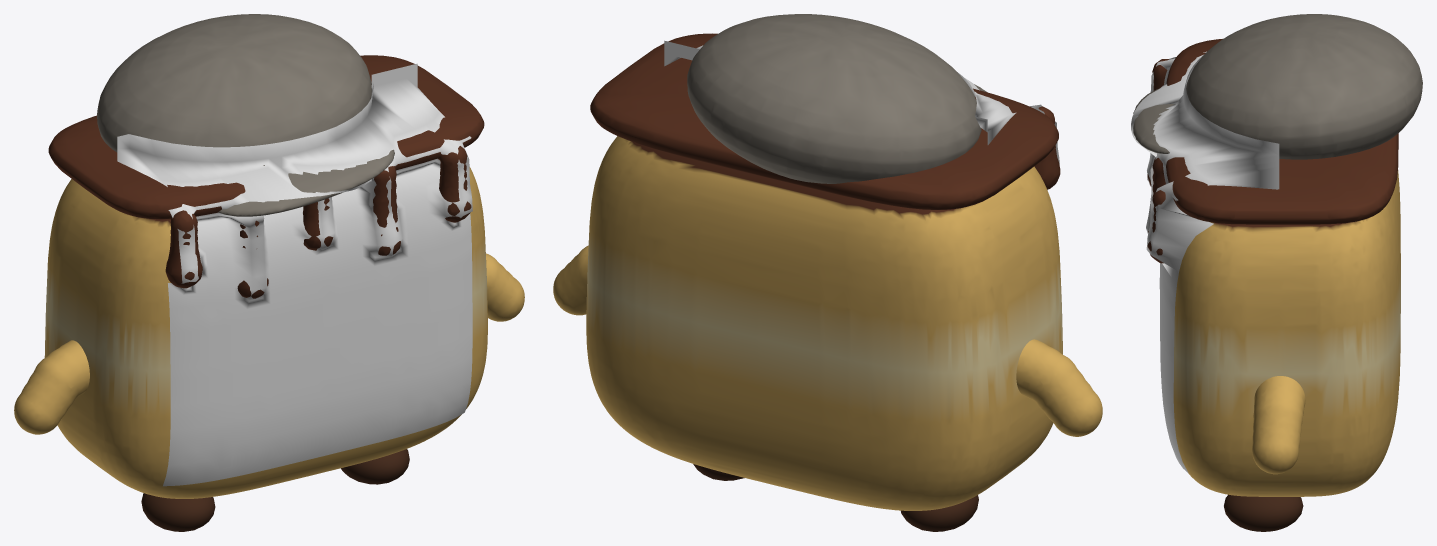
File: folk2_sully.glb
The picture shows the model from 3 angles, left to right: view 1: azimuth 30°, elevation 25°; view 2: azimuth 150°, elevation 25°; view 3: azimuth 270°, elevation 25°; orthographic projection. The views are drawn at different scales.
Visible parts, largest first — view 1: sully_face, sully_body, sully_arm_l, sully_foot_l, sully_arm_r, sully_foot_r; view 2: sully_body, sully_arm_l, sully_face, sully_arm_r, sully_foot_l; view 3: sully_body, sully_face, sully_arm_r, sully_foot_r.
Part boxes in pixels (x1,y1,x2,y2): sully_face: [117, 63, 472, 486]; sully_body: [44, 14, 487, 498]; sully_arm_l: [14, 340, 89, 434]; sully_foot_l: [141, 493, 215, 531]; sully_arm_r: [486, 253, 524, 321]; sully_foot_r: [341, 449, 409, 484]; sully_body: [586, 14, 1062, 510]; sully_arm_l: [1016, 339, 1102, 436]; sully_face: [664, 40, 1059, 189]; sully_arm_r: [553, 245, 588, 315]; sully_foot_l: [901, 495, 978, 531]; sully_body: [1133, 14, 1422, 496]; sully_face: [1131, 51, 1279, 472]; sully_arm_r: [1252, 376, 1305, 474]; sully_foot_r: [1224, 494, 1303, 531].
Bounding box in the file's own units: 1.24 × 1.06 × 0.6368.
